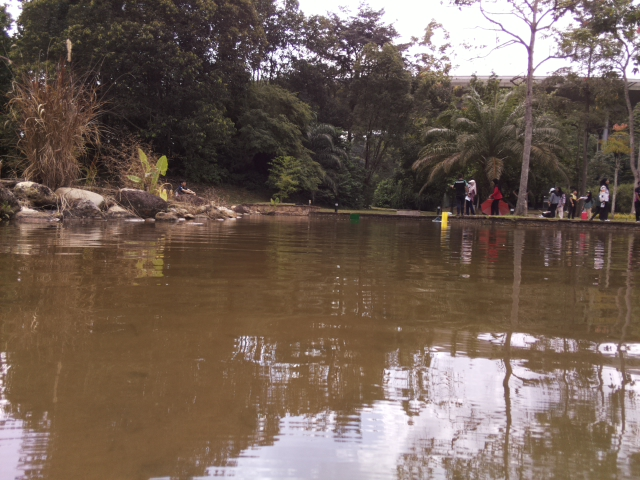obstacle: (349, 212, 361, 221)
